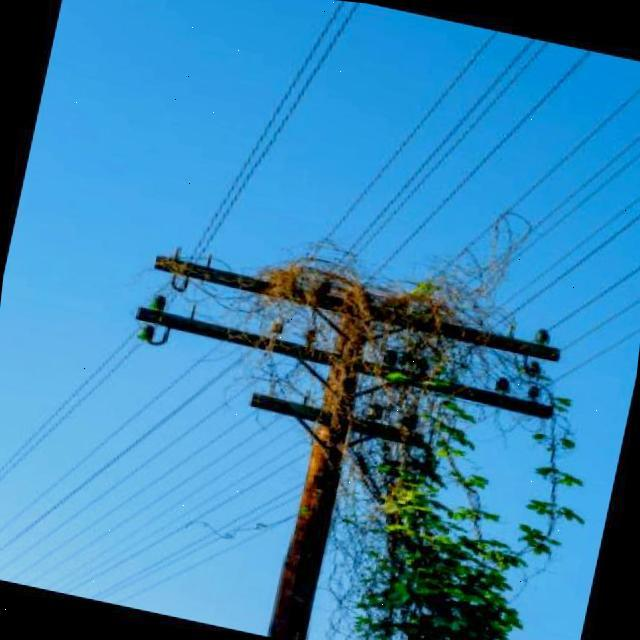critical vegetation: (83, 221, 624, 640)
